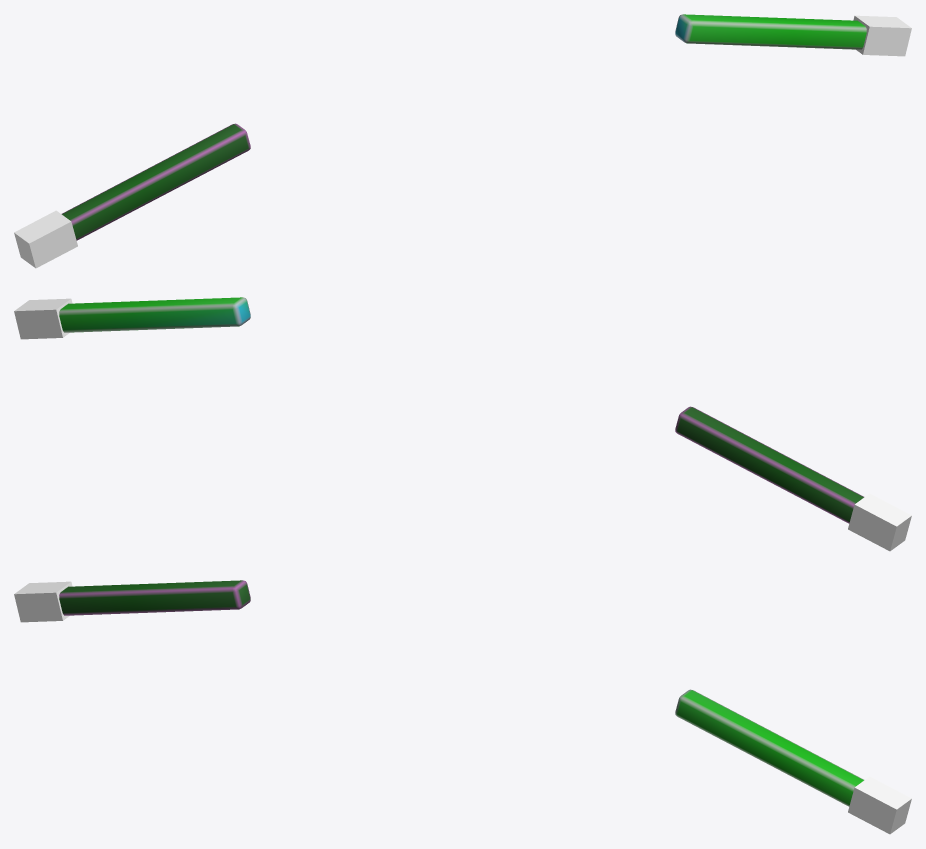
File: quad_beam_01.fbx
The picture shows the model from 3 angles, top to bottom: view 1: azimuth 30°, elevation 25°; view 2: azimuth 150°, elevation 25°; view 3: azimuth 330°, elevation 25°; orthographic projection.
Visible parts, largest first — view 1: quad_beam_01; view 2: quad_beam_01; view 3: quad_beam_01.
Boxes of the visible parts, x1,y1,x2,y2 form: quad_beam_01: (14, 14, 911, 268); quad_beam_01: (14, 297, 911, 551); quad_beam_01: (14, 580, 911, 834).
Size of the model in its own units: 1.01 by 0.0926 by 0.03.
